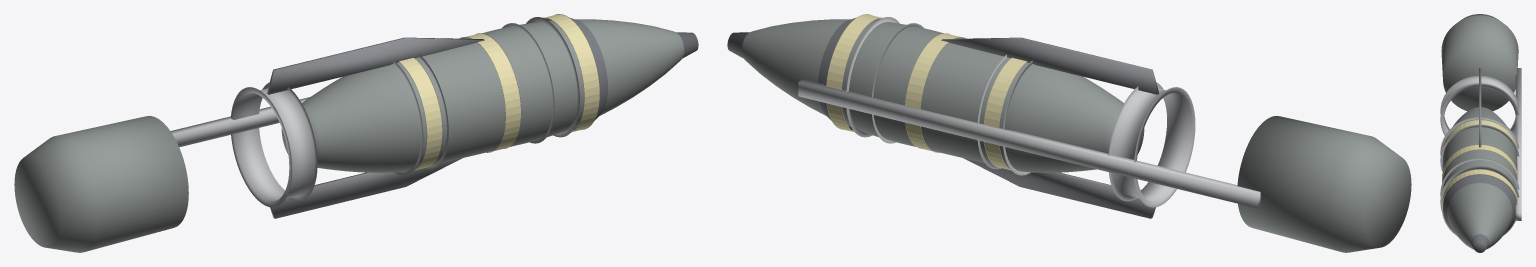
File: US_SLBM_Trident_D5LE_LOD0.fbx
The picture shows the model from 3 angles, left to right: view 1: azimuth 30°, elevation 25°; view 2: azimuth 150°, elevation 25°; view 3: azimuth 270°, elevation 25°; orthographic projection. The views are drawn at different scales.
Visible parts, largest first — view 1: WPN_US_SLBM_Trident_D5LE_LOD0_Body, WPN_US_SLBM_Trident_D5LE_LOD0_Tail, WPN_US_SLBM_Trident_D5LE_LOD0_Detail, WPN_US_SLBM_Trident_D5LE_LOD0_Marking, WPN_US_SLBM_Trident_D5LE_LOD0_Nose; view 2: WPN_US_SLBM_Trident_D5LE_LOD0_Body, WPN_US_SLBM_Trident_D5LE_LOD0_Detail, WPN_US_SLBM_Trident_D5LE_LOD0_Tail, WPN_US_SLBM_Trident_D5LE_LOD0_Marking, WPN_US_SLBM_Trident_D5LE_LOD0_Nose; view 3: WPN_US_SLBM_Trident_D5LE_LOD0_Body, WPN_US_SLBM_Trident_D5LE_LOD0_Tail, WPN_US_SLBM_Trident_D5LE_LOD0_Detail, WPN_US_SLBM_Trident_D5LE_LOD0_Marking, WPN_US_SLBM_Trident_D5LE_LOD0_Nose.
Part boxes in pixels (x1,y1,x2,y2): WPN_US_SLBM_Trident_D5LE_LOD0_Body: (281,19,684,172); WPN_US_SLBM_Trident_D5LE_LOD0_Tail: (14,116,188,252); WPN_US_SLBM_Trident_D5LE_LOD0_Detail: (170,17,579,218); WPN_US_SLBM_Trident_D5LE_LOD0_Marking: (399,14,599,170); WPN_US_SLBM_Trident_D5LE_LOD0_Nose: (546,17,698,130); WPN_US_SLBM_Trident_D5LE_LOD0_Body: (741,19,1144,172); WPN_US_SLBM_Trident_D5LE_LOD0_Detail: (798,17,1260,218); WPN_US_SLBM_Trident_D5LE_LOD0_Tail: (1237,116,1411,252); WPN_US_SLBM_Trident_D5LE_LOD0_Marking: (826,14,1026,170); WPN_US_SLBM_Trident_D5LE_LOD0_Nose: (727,17,879,130); WPN_US_SLBM_Trident_D5LE_LOD0_Body: (1442,107,1517,249); WPN_US_SLBM_Trident_D5LE_LOD0_Tail: (1441,14,1518,111); WPN_US_SLBM_Trident_D5LE_LOD0_Detail: (1440,68,1521,220); WPN_US_SLBM_Trident_D5LE_LOD0_Marking: (1442,120,1517,236); WPN_US_SLBM_Trident_D5LE_LOD0_Nose: (1443,174,1516,252).
Bounding box in the file's own units: 13.6 × 2.27 × 2.93.
